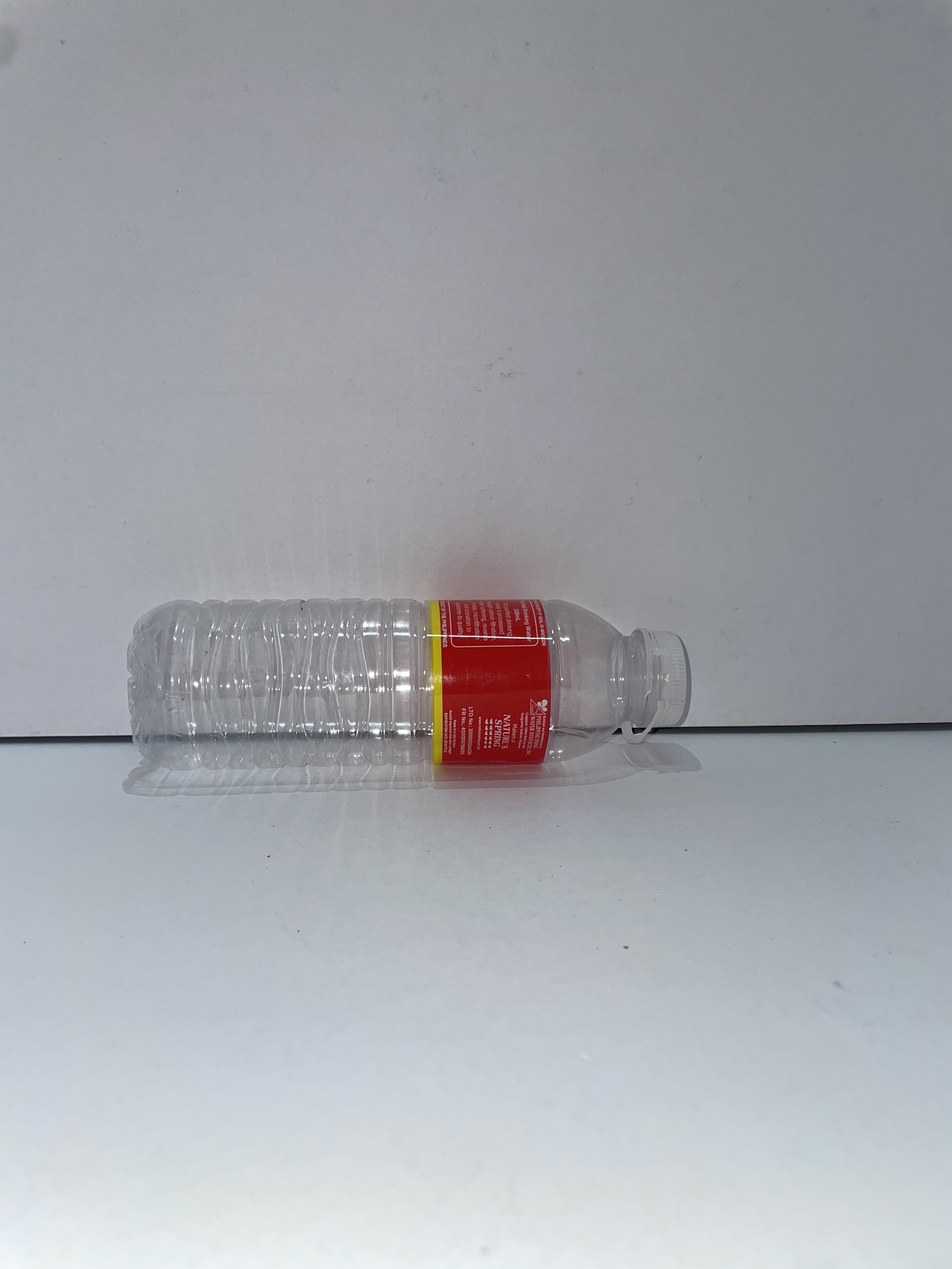Nature spring victory liner 330ml: (128, 598, 690, 774)
